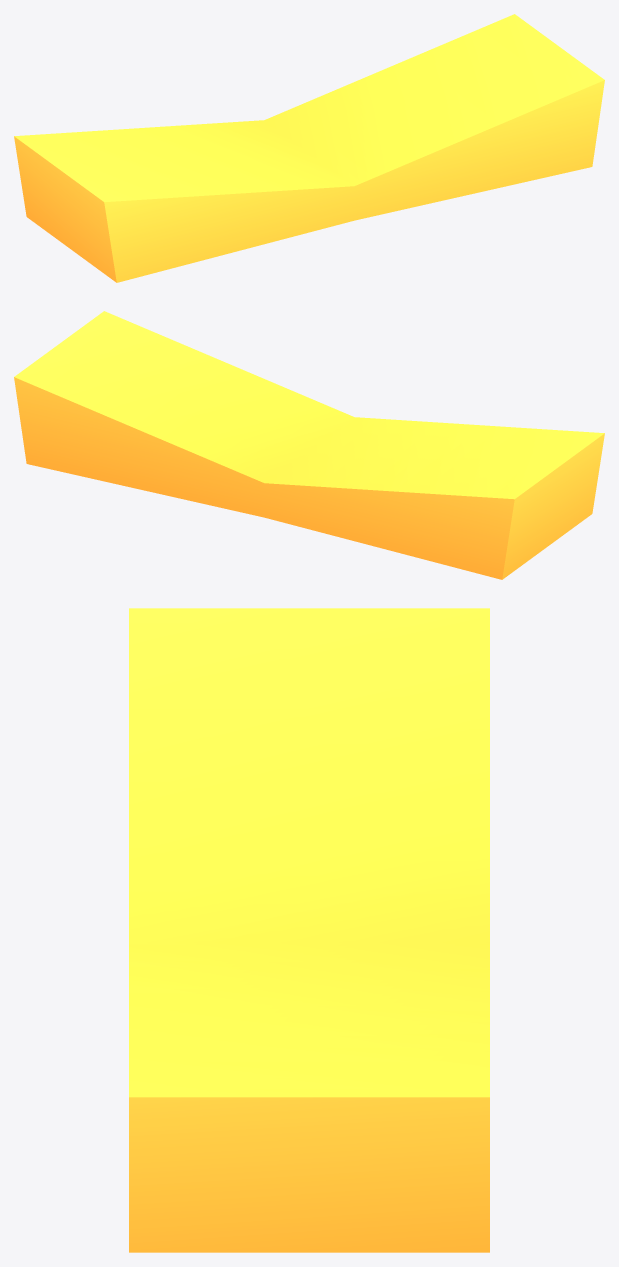
The model's file is gold_guard_017.glb.
3 views of the same model, one above another, from view 1: azimuth 30°, elevation 25°; view 2: azimuth 150°, elevation 25°; view 3: azimuth 270°, elevation 25° (orthographic). The views are drawn at different scales.
Parts seen in each view (by area): view 1: gold_guard_017; view 2: gold_guard_017; view 3: gold_guard_017.
Boxes of the visible parts, box(x1,y1,x2,y2) form: gold_guard_017: box(14, 14, 604, 282); gold_guard_017: box(14, 311, 604, 579); gold_guard_017: box(129, 608, 489, 1252).
Bounding box in the file's own units: 6.41 × 1.03 × 2.
Materials: 1 (1 with a texture image).
